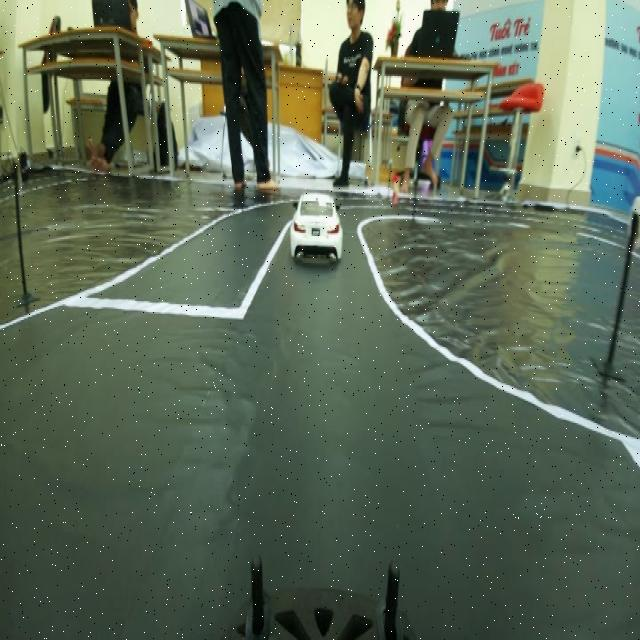car: (289, 185, 350, 270)
